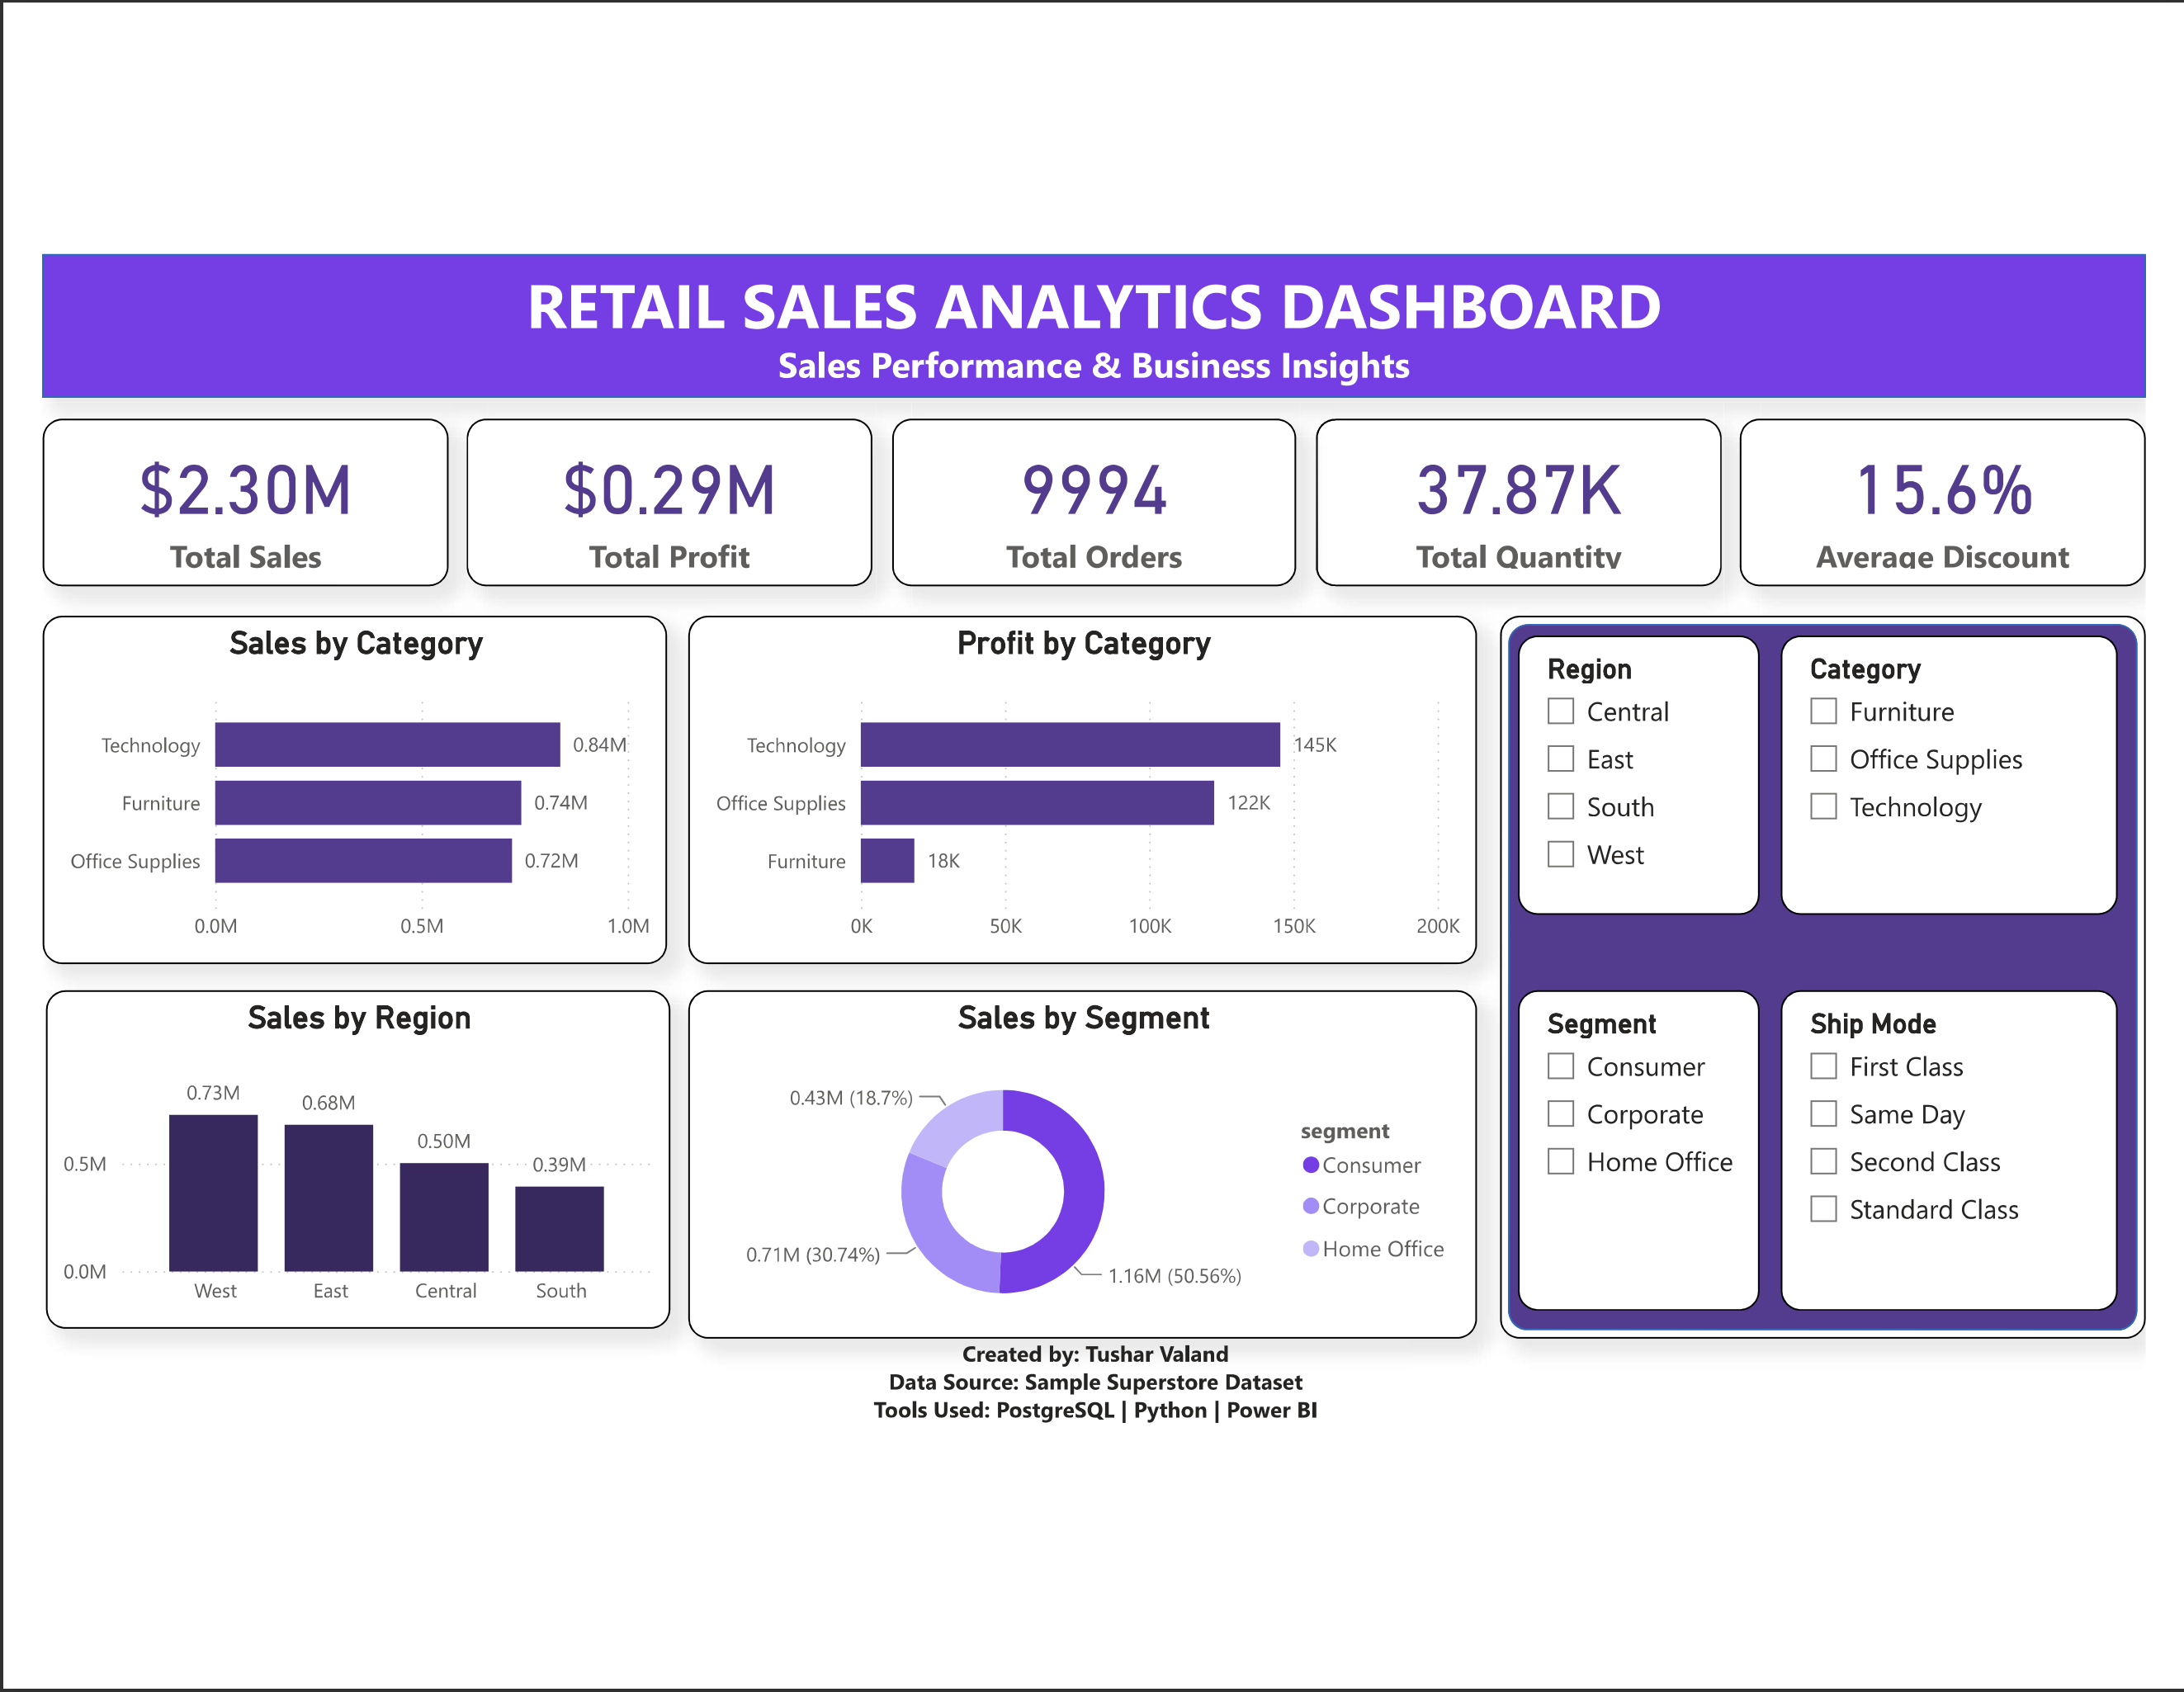

The page's visual inventory and layout, read from the dashboard file:
{"tool":"powerbi","page":{"name":"Page 1","canvas":[1280,720],"ordinal":0},"visuals":[{"type":"shape","box":[0,0,1280,86.7],"z":0},{"type":"textbox","box":[0,0,1280,61.7],"z":1000},{"type":"textbox","box":[0,46.7,1280,40],"z":2000},{"type":"card","fields":{"Values":["public retail_sales.Total Sales"]},"box":[0,100,246.7,101.7],"z":3000},{"type":"card","fields":{"Values":["public retail_sales.Total Profit"]},"box":[258.3,100,246.7,101.7],"z":4000},{"type":"card","fields":{"Values":["public retail_sales.Total Quantity"]},"box":[775,100,246.7,101.7],"z":5000},{"type":"card","fields":{"Values":["public retail_sales.Total Orders"]},"box":[516.7,100,246.7,101.7],"z":6000},{"type":"card","fields":{"Values":["public retail_sales.Average Discount"]},"box":[1033.3,100,246.7,101.7],"z":7000},{"type":"clusteredBarChart","title":"Sales by Category","fields":{"Category":["public retail_sales.category"],"Y":["Sum(public retail_sales.sales)"]},"box":[0,220,380,212],"z":8000},{"type":"clusteredBarChart","title":"Profit by Category","fields":{"Category":["public retail_sales.category"],"Y":["Sum(public retail_sales.profit)"]},"box":[393.3,220,480,211.7],"z":9000},{"type":"clusteredColumnChart","title":"Sales by Region","fields":{"Category":["public retail_sales.region"],"Y":["Sum(public retail_sales.sales)"]},"box":[1.7,448.3,380,206],"z":10000},{"type":"donutChart","title":"Sales by Segment","fields":{"Category":["public retail_sales.segment"],"Y":["Sum(public retail_sales.sales)"]},"box":[393.3,448.3,480,212],"z":11000},{"type":"shape","box":[886.7,220,393.3,440],"z":12000},{"type":"slicer","fields":{"Values":["public retail_sales.region"]},"box":[898.3,231.7,146.7,170],"z":13000},{"type":"slicer","fields":{"Values":["public retail_sales.category"]},"box":[1058.3,231.7,205,170],"z":14000},{"type":"slicer","fields":{"Values":["public retail_sales.segment"]},"box":[898.3,448.3,146.7,195],"z":15000},{"type":"slicer","fields":{"Values":["public retail_sales.ship_mode"]},"box":[1058.3,448.3,205,195],"z":16000},{"type":"textbox","box":[10,655,1261.7,65],"z":16001}]}

Visuals, with their boxes in screenshot pixels (x1, y1, x2, y2):
shape: pyautogui.locateOnScreen(57, 250, 2134, 391)
textbox: pyautogui.locateOnScreen(57, 250, 2134, 351)
textbox: pyautogui.locateOnScreen(57, 326, 2134, 391)
card - public retail_sales.Total Sales: pyautogui.locateOnScreen(57, 413, 457, 578)
card - public retail_sales.Total Profit: pyautogui.locateOnScreen(476, 413, 877, 578)
card - public retail_sales.Total Quantity: pyautogui.locateOnScreen(1315, 413, 1715, 578)
card - public retail_sales.Total Orders: pyautogui.locateOnScreen(896, 413, 1296, 578)
card - public retail_sales.Average Discount: pyautogui.locateOnScreen(1734, 413, 2134, 578)
"Sales by Category" clusteredBarChart: pyautogui.locateOnScreen(57, 607, 674, 952)
"Profit by Category" clusteredBarChart: pyautogui.locateOnScreen(695, 607, 1474, 951)
"Sales by Region" clusteredColumnChart: pyautogui.locateOnScreen(59, 978, 676, 1312)
"Sales by Segment" donutChart: pyautogui.locateOnScreen(695, 978, 1474, 1322)
shape: pyautogui.locateOnScreen(1496, 607, 2134, 1321)
slicer - public retail_sales.region: pyautogui.locateOnScreen(1515, 626, 1753, 902)
slicer - public retail_sales.category: pyautogui.locateOnScreen(1775, 626, 2107, 902)
slicer - public retail_sales.segment: pyautogui.locateOnScreen(1515, 978, 1753, 1294)
slicer - public retail_sales.ship_mode: pyautogui.locateOnScreen(1775, 978, 2107, 1294)
textbox: pyautogui.locateOnScreen(73, 1313, 2121, 1419)
